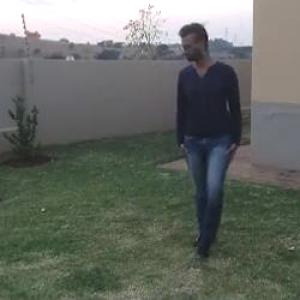follow: (157, 12, 244, 271)
